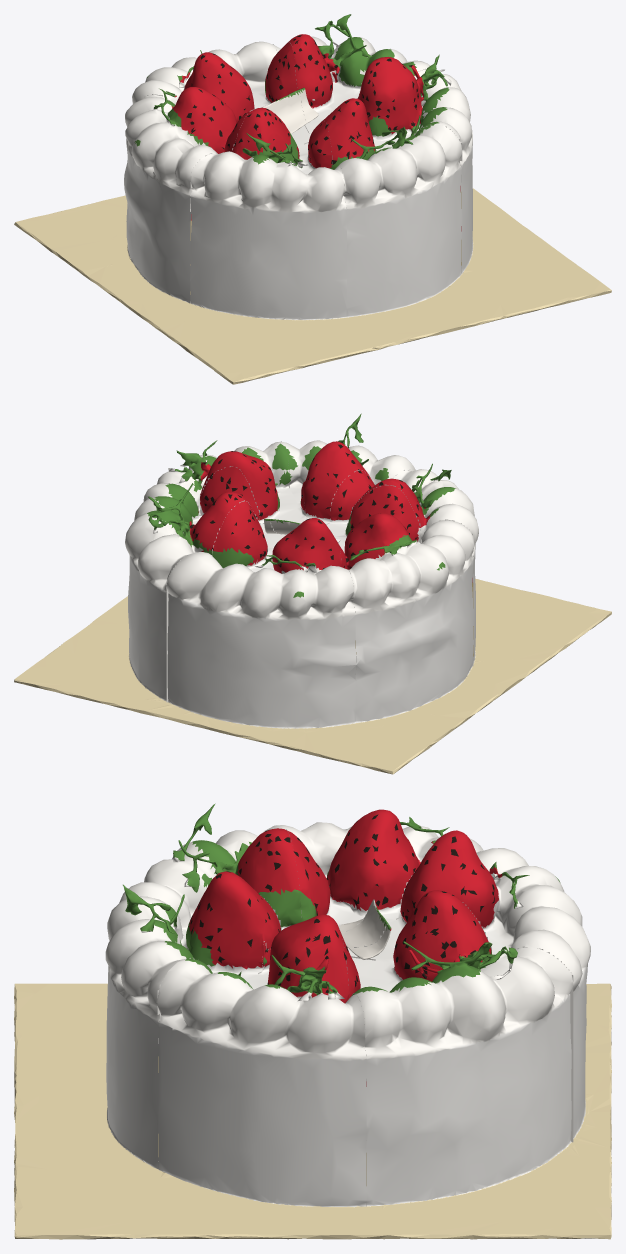
Rendered from StrawberryCreamCakeSliced.gltf.
The picture shows the model from 3 angles, top to bottom: view 1: azimuth 30°, elevation 25°; view 2: azimuth 150°, elevation 25°; view 3: azimuth 270°, elevation 25°; orthographic projection. The views are drawn at different scales.
Parts seen in each view (by area): view 1: Board, Slice4, Slice5, Slice3, Slice6, Slice2, Slice1; view 2: Slice2, Board, Slice3, Slice1, Slice6, Slice5, Slice4; view 3: Board, Slice1, Slice6, Slice5, Slice2, Slice3, Slice4.
Boxes of the visible parts, x1,y1,x2,y2 form: Board: (14, 188, 611, 384); Slice4: (190, 107, 346, 320); Slice5: (322, 98, 462, 317); Slice3: (124, 87, 308, 303); Slice6: (358, 54, 473, 274); Slice2: (132, 41, 310, 140); Slice1: (273, 14, 430, 135); Slice2: (166, 501, 356, 728); Board: (14, 578, 611, 774); Slice3: (332, 485, 474, 722); Slice1: (125, 466, 286, 702); Slice6: (157, 440, 306, 523); Slice5: (281, 413, 415, 524); Slice4: (326, 463, 478, 665); Board: (14, 983, 611, 1239); Slice1: (339, 890, 573, 1206); Slice6: (157, 914, 366, 1207); Slice5: (105, 871, 280, 1169); Slice2: (342, 830, 590, 1142); Slice3: (264, 809, 483, 933); Slice4: (119, 803, 301, 936).
Size of the model in its own units: 3 by 1.36 by 3.
Materials: 1 (1 with a texture image).
